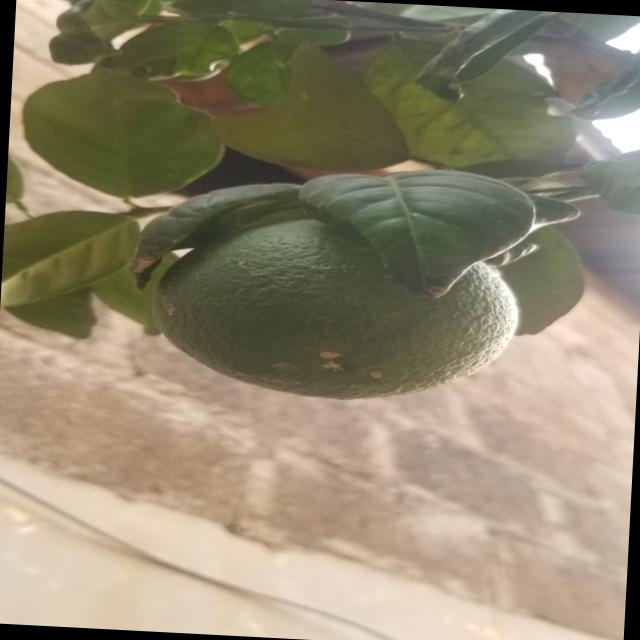agrume: (123, 198, 538, 427)
